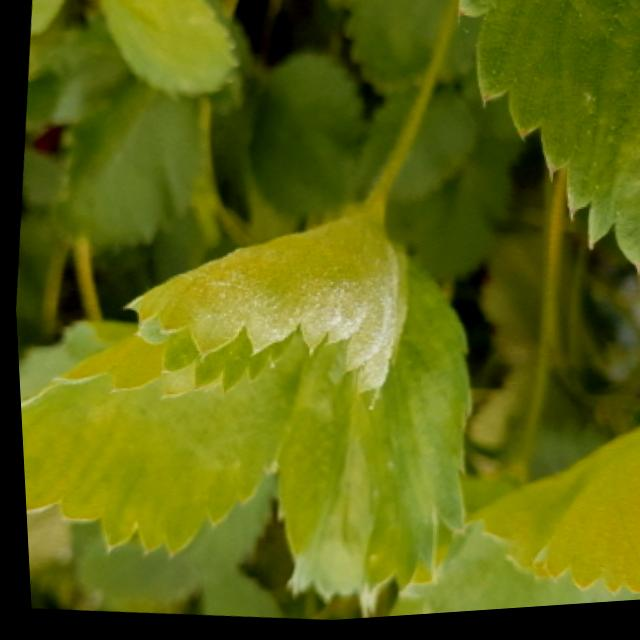Powdery Mildew Leaf: (121, 213, 407, 401)
